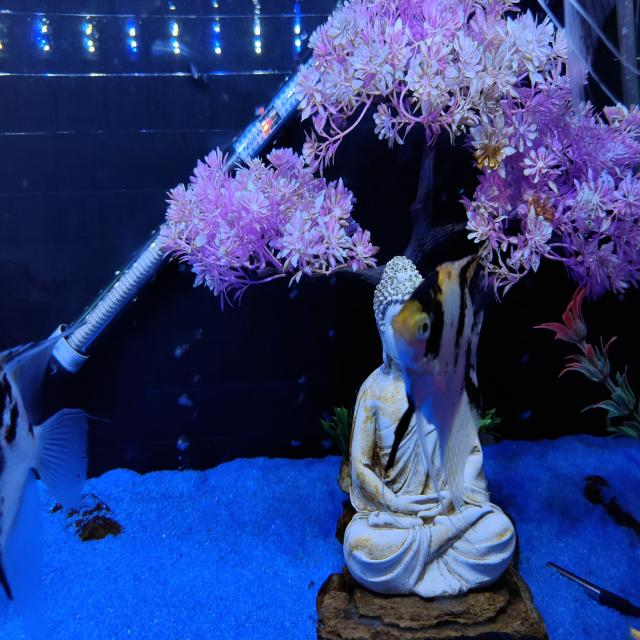Fish: (0, 335, 88, 639), (388, 255, 482, 509), (630, 627, 639, 639)
